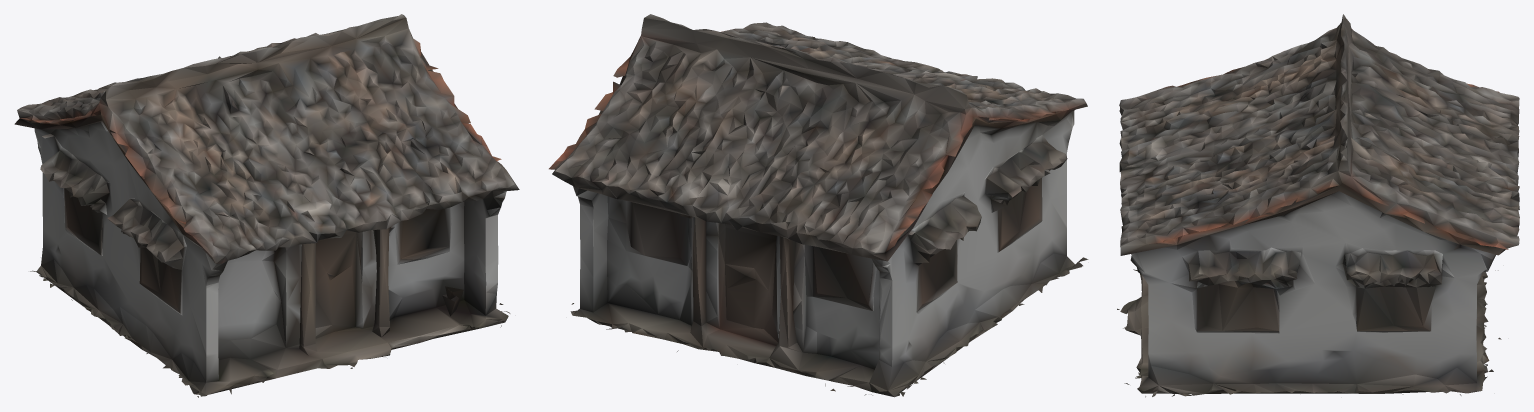
The model's file is bq_house_tiled.vc.glb.
3 views of the same model, side by side, from view 1: azimuth 30°, elevation 25°; view 2: azimuth 150°, elevation 25°; view 3: azimuth 270°, elevation 25° (orthographic). The views are drawn at different scales.
Visible parts, largest first — view 1: bq_house_tiled; view 2: bq_house_tiled; view 3: bq_house_tiled.
Part boxes in pixels (<box>): bq_house_tiled: <box>14,14,519,397</box>; bq_house_tiled: <box>549,14,1088,397</box>; bq_house_tiled: <box>1117,14,1519,397</box>.
Size of the model in its own units: 1.96 by 1.29 by 1.99.
